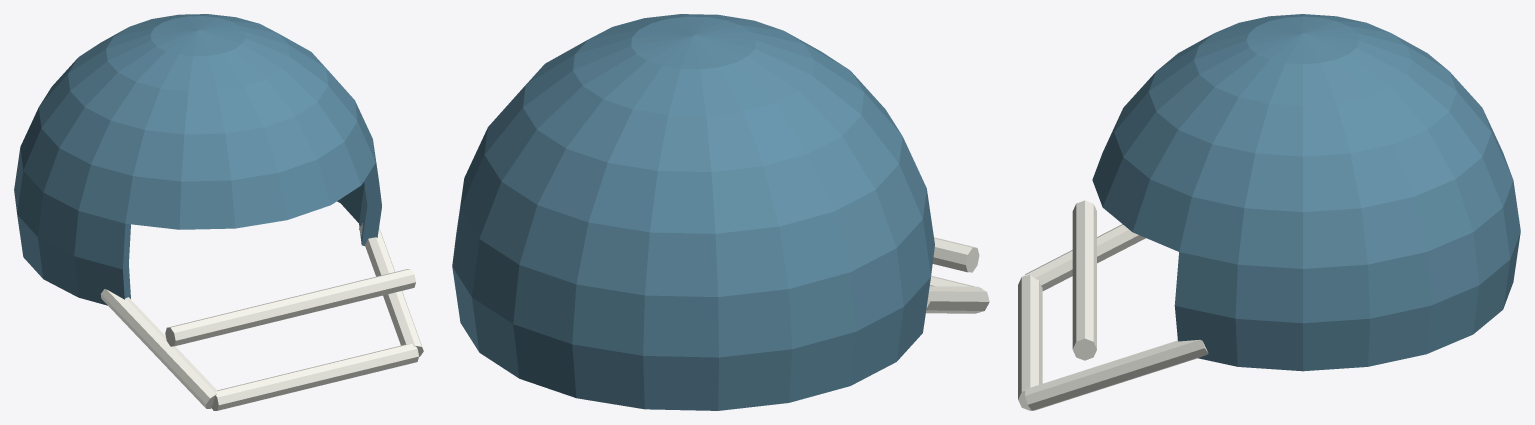
The model's file is american-football-stadium-kit-helmet-9a499427__22367.glb.
The picture shows the model from 3 angles, left to right: view 1: azimuth 30°, elevation 25°; view 2: azimuth 150°, elevation 25°; view 3: azimuth 270°, elevation 25°; orthographic projection. The views are drawn at different scales.
Parts seen in each view (by area): view 1: helmet; view 2: helmet; view 3: helmet.
Part boxes in pixels (x1,y1,x2,y2): helmet: [14, 14, 423, 410]; helmet: [452, 14, 989, 410]; helmet: [1018, 14, 1520, 410].
Size of the model in its own units: 0.32 by 0.259 by 0.369.
